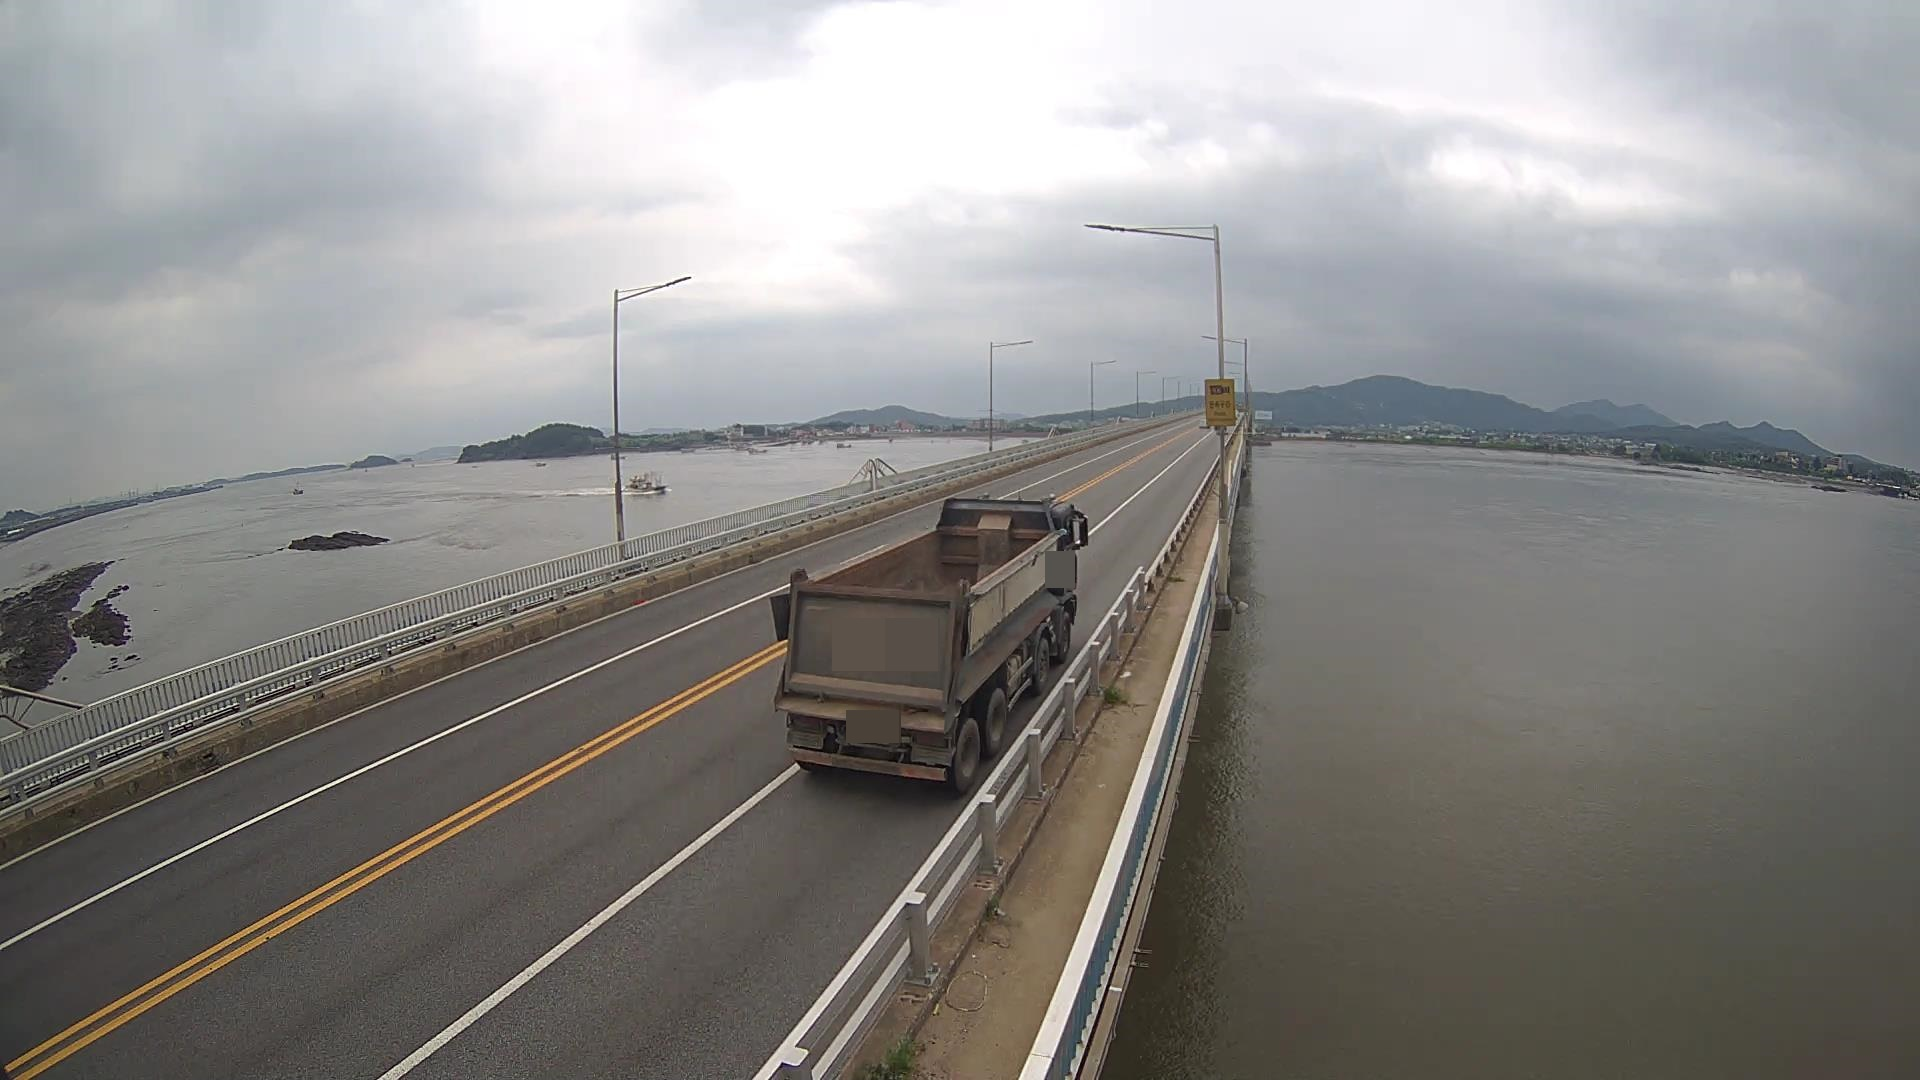정상차량: (771, 493, 1088, 798)
